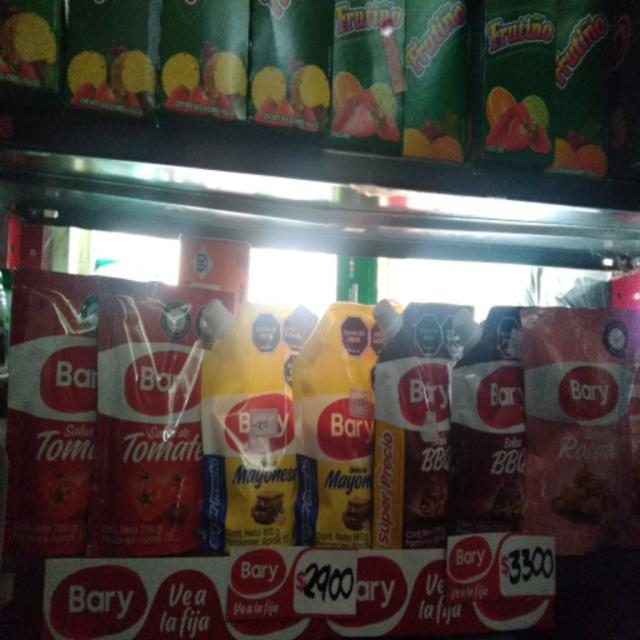BBQ: (369, 299, 458, 545), (449, 301, 524, 528)
Mayonesa: (203, 303, 300, 540), (296, 313, 373, 548)
Precio: (290, 553, 364, 620), (495, 541, 564, 602)
Rosada: (518, 300, 639, 530)
Tomate: (96, 277, 217, 546), (1, 269, 102, 543)
